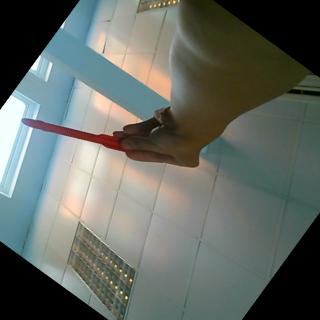Rocket: (18, 86, 120, 176)
